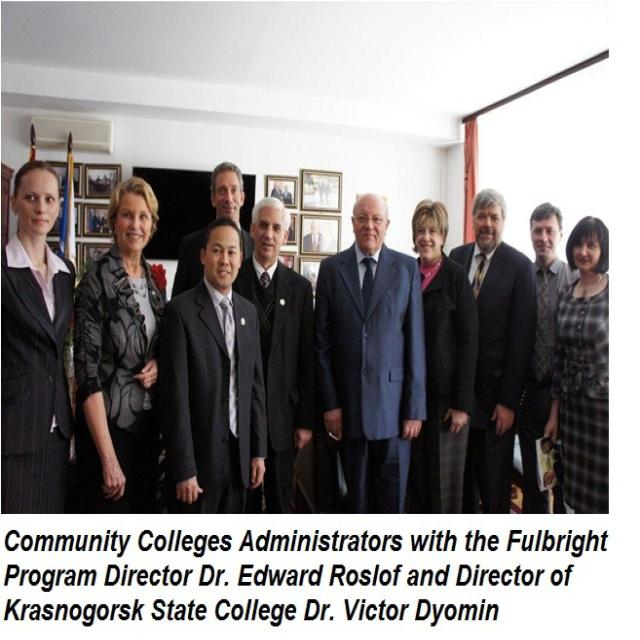body: (312, 189, 428, 515), (69, 173, 168, 514), (159, 217, 269, 514), (446, 187, 538, 515), (0, 157, 84, 514), (230, 195, 317, 515), (404, 195, 480, 515), (539, 214, 609, 514), (516, 199, 582, 516), (166, 157, 260, 305)
